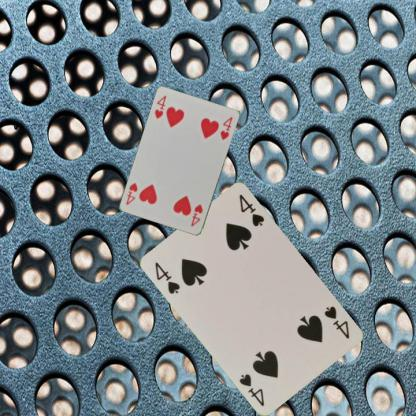4h: (152, 93, 168, 120), (188, 202, 204, 228)
4s: (322, 304, 351, 340), (153, 259, 182, 295)
